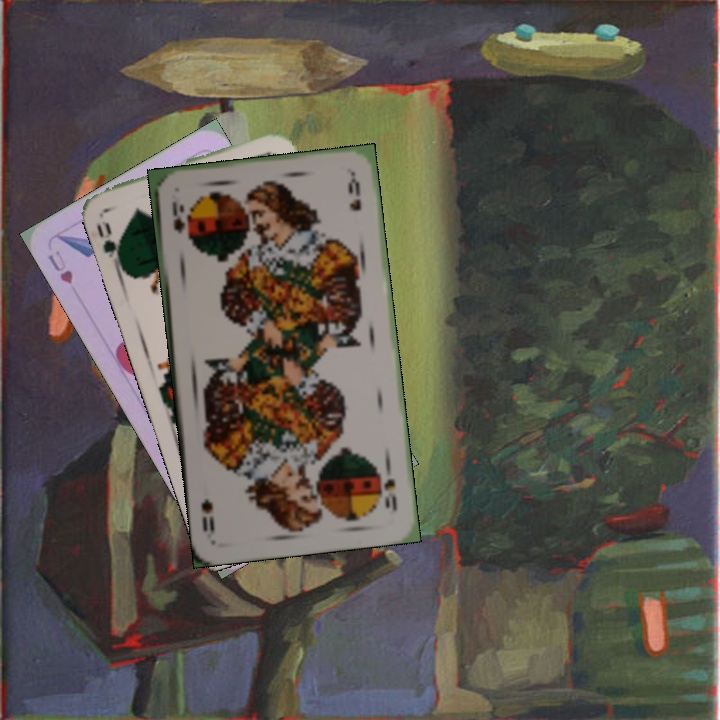GO: (92, 217, 124, 271)
HU: (43, 246, 76, 287)
SO: (379, 459, 400, 514), (167, 197, 188, 236)
